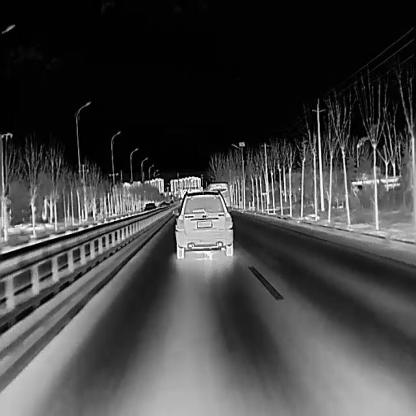bus: (206, 180, 230, 210)
car: (171, 188, 233, 259), (143, 201, 157, 216)
